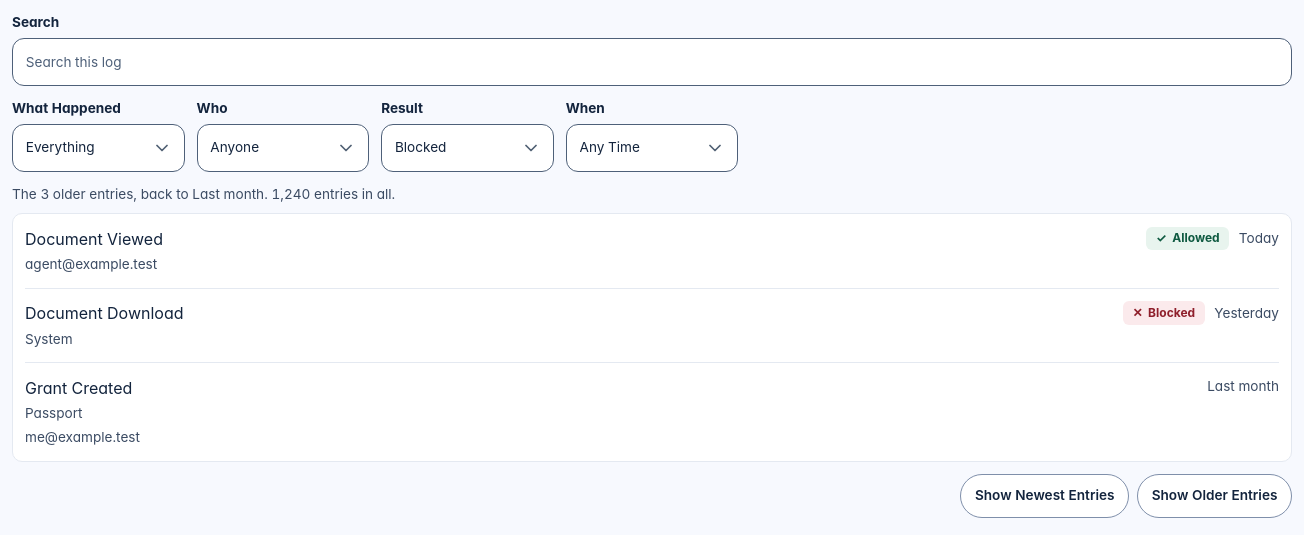
Test case: the activity log › links to older and newest pages from the server and closes the summary with the total
Select "Blocked" in the dropdown labelled "Result": (467, 148) x1=381 y1=124 x2=554 y2=172
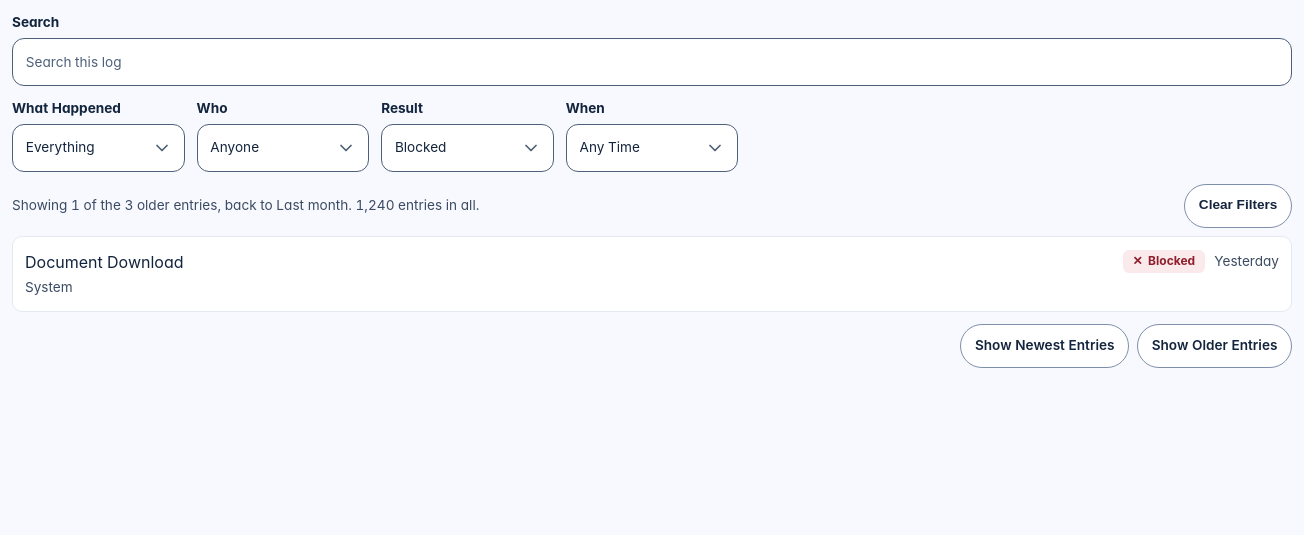
Result: the text "Showing 1 of the 3 older entries, back to Last month. 1,240 entries in all." is shown at x1=12 y1=195 x2=479 y2=216
